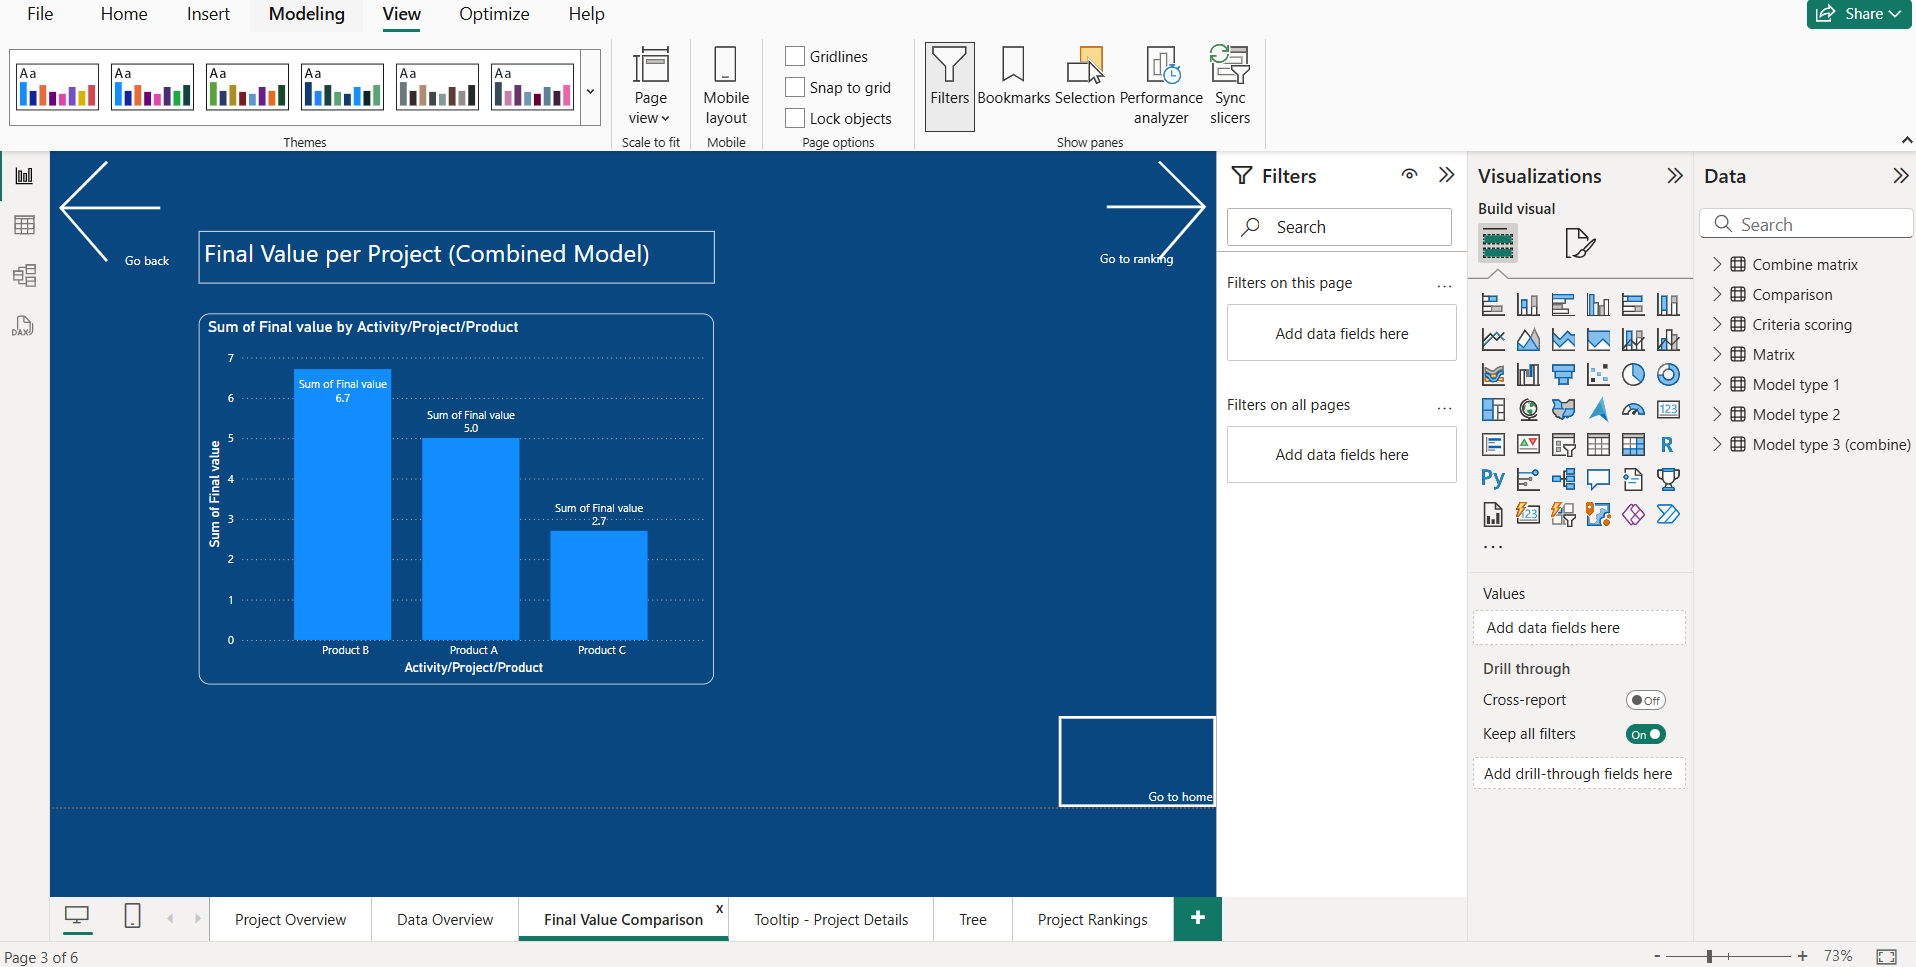

Layout of this report page (visuals, bound fields, positions):
{"tool":"powerbi","page":{"name":"Final Value Comparison","canvas":[1280,720],"ordinal":2},"visuals":[{"type":"columnChart","fields":{"Category":["Combine matrix.Activity/Project/Product"],"Y":["Sum(Combine matrix.Final value)"]},"box":[163.3,178.4,565.4,407.5],"z":0},{"type":"textbox","box":[163.3,87.8,566.7,57.6],"z":1000},{"type":"actionButton","box":[1148.3,0,131.7,130.4],"z":1003},{"type":"actionButton","box":[0,0,134.5,133.1],"z":1004},{"type":"actionButton","box":[1107.1,619.8,172.9,100.2],"z":1005}]}

Visuals, with their boxes on the page's 1280x720 design canvas (x1, y1, x2, y2). These are canvas units, not pixel positions in the 1916x967 screenshot, which may show the page scaled, cropped or inside an application window:
columnChart - Combine matrix.Activity/Project/Product x Sum(Combine matrix.Final value): box(163, 178, 729, 586)
textbox: box(163, 88, 730, 145)
actionButton: box(1148, 0, 1280, 130)
actionButton: box(0, 0, 134, 133)
actionButton: box(1107, 620, 1280, 720)
